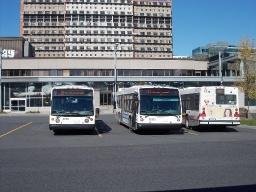bus: (113, 85, 183, 130), (179, 86, 244, 131), (46, 83, 100, 133)
